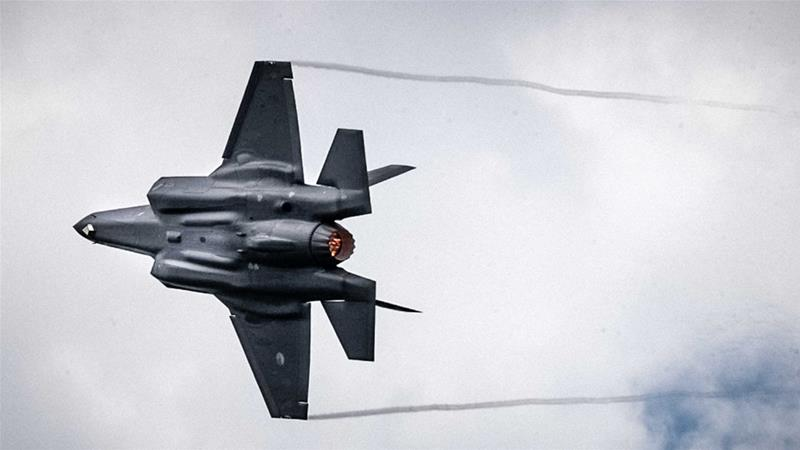F-35 Lightning: (59, 35, 419, 431)
